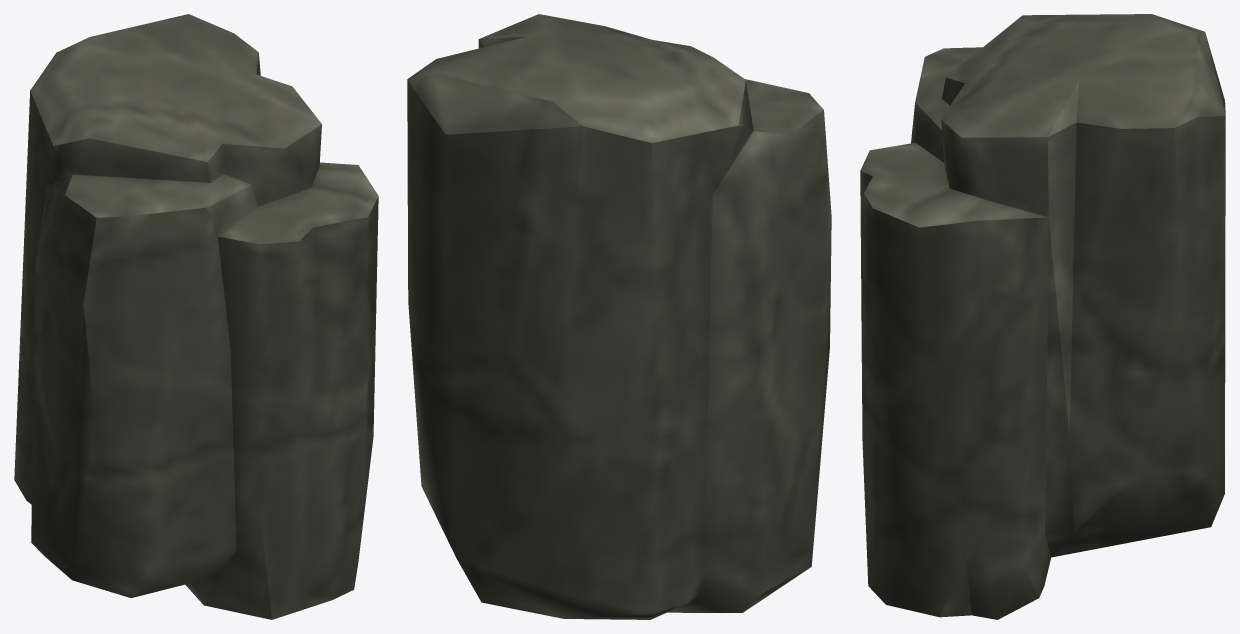
The model's file is Rock_13.fbx.
The picture shows the model from 3 angles, left to right: view 1: azimuth 30°, elevation 25°; view 2: azimuth 150°, elevation 25°; view 3: azimuth 270°, elevation 25°; orthographic projection. The views are drawn at different scales.
Visible parts, largest first — view 1: Rock_13; view 2: Rock_13; view 3: Rock_13.
Part boxes in pixels (x1,y1,x2,y2): Rock_13: (14, 14, 378, 619); Rock_13: (407, 14, 831, 619); Rock_13: (860, 14, 1225, 619).
Size of the model in its own units: 244 by 387 by 250.
Materials: 1 (1 with a texture image).
